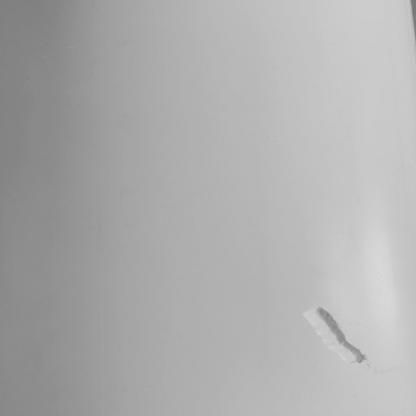sunshang: (299, 306, 369, 361)
